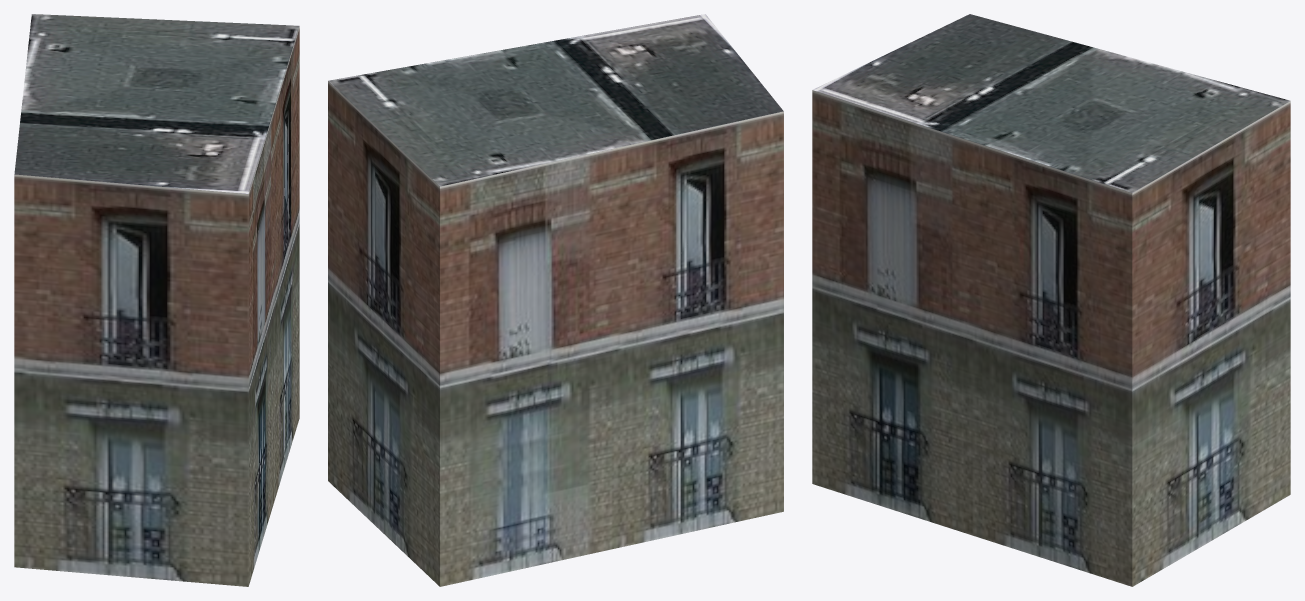
The model's file is RelTex__4.fbx.
3 renders of one model, left to right at view 1: azimuth 30°, elevation 25°; view 2: azimuth 150°, elevation 25°; view 3: azimuth 270°, elevation 25°, orthographic.
Parts seen in each view (by area): view 1: CityEngineMaterial_9_m, CityEngineMaterial_8_m; view 2: CityEngineMaterial_9_m, CityEngineMaterial_8_m; view 3: CityEngineMaterial_9_m, CityEngineMaterial_8_m.
Part boxes in pixels (bbox=[...]): CityEngineMaterial_9_m: bbox=[14, 26, 299, 586]; CityEngineMaterial_8_m: bbox=[14, 14, 299, 193]; CityEngineMaterial_9_m: bbox=[328, 81, 783, 586]; CityEngineMaterial_8_m: bbox=[328, 14, 783, 186]; CityEngineMaterial_9_m: bbox=[812, 90, 1290, 586]; CityEngineMaterial_8_m: bbox=[813, 14, 1290, 192].
Bounding box in the file's own units: 5.85 × 6 × 6.61.
Materials: 2 (2 with a texture image).
